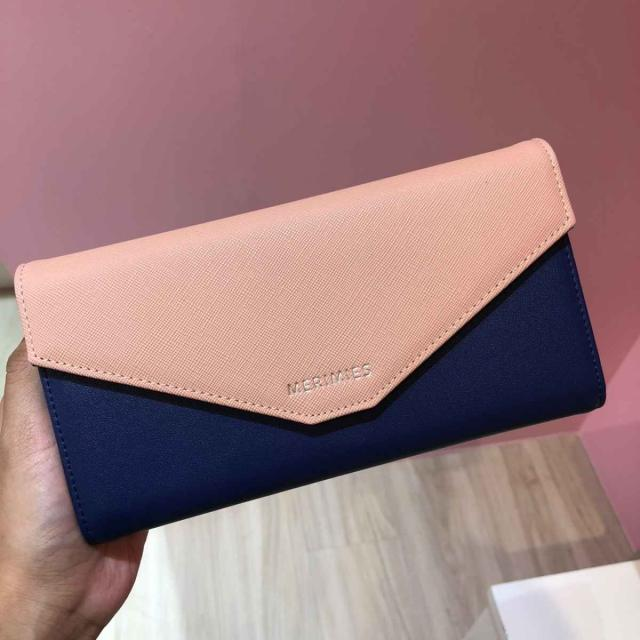Handbag: (13, 138, 607, 545)
